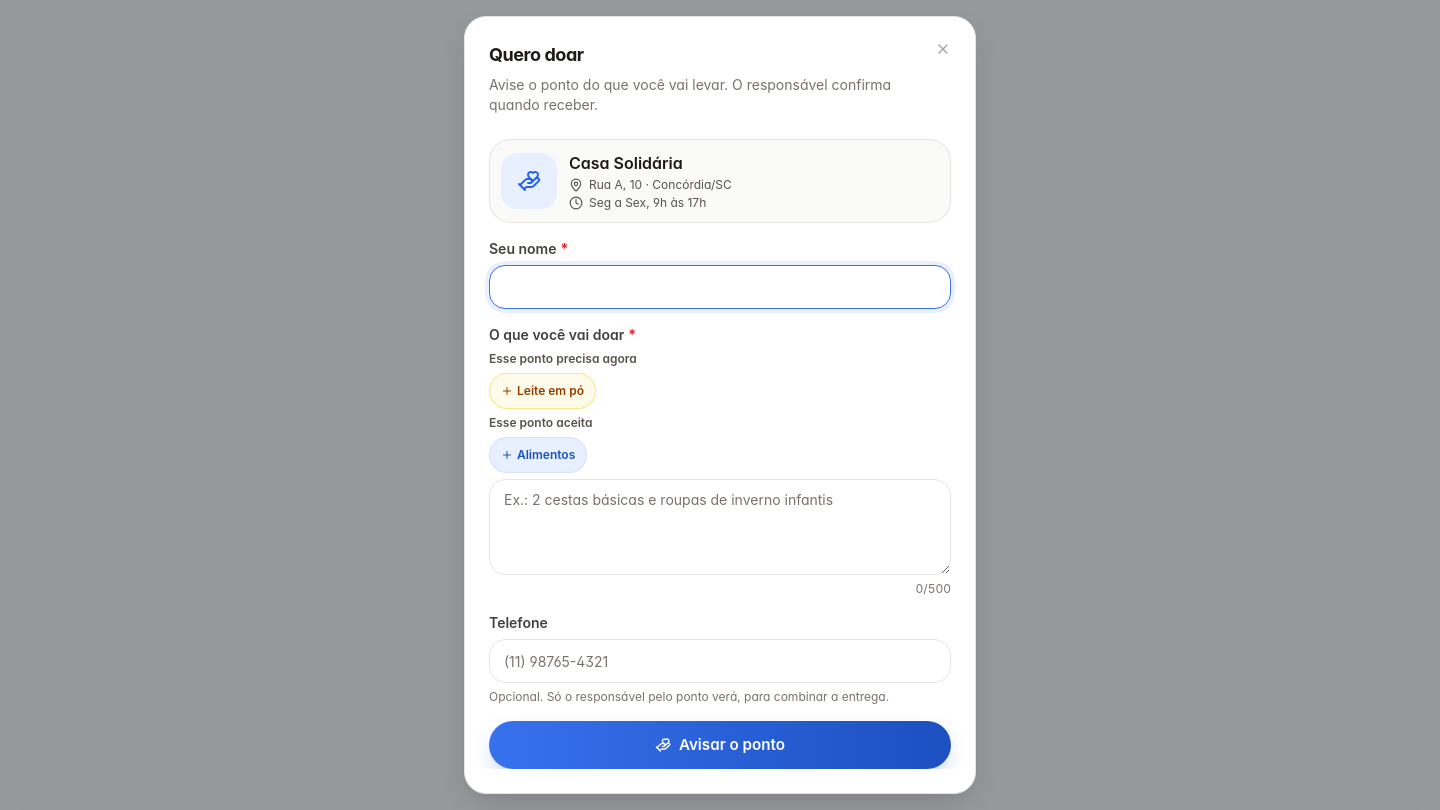
PledgeDonationModal › não envia sem descrição
In the field labelled "Seu nome": (720,287) 489,265 -> 951,309, type "Carlos"
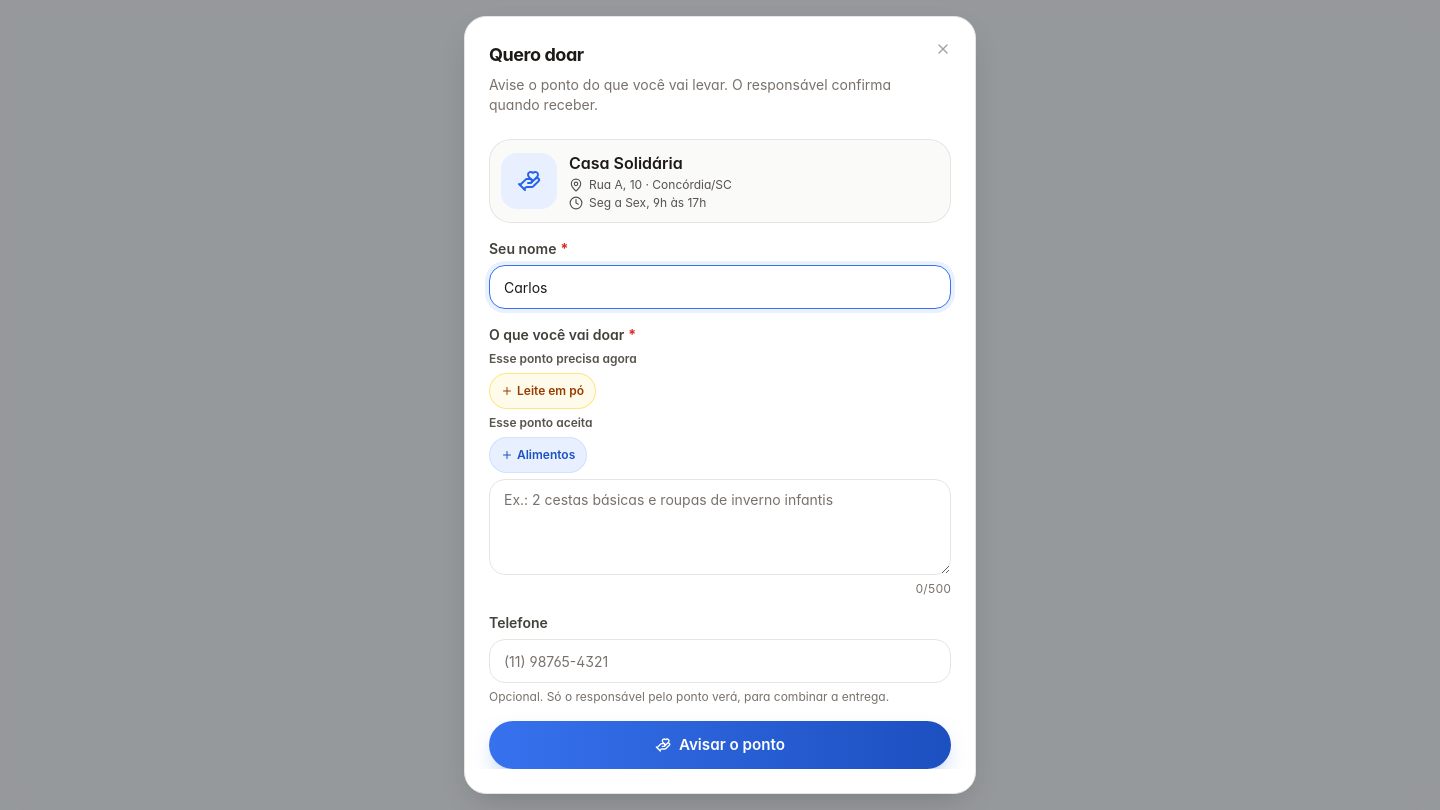
Click the button "Avisar o ponto": (720,745) 489,721 -> 951,769
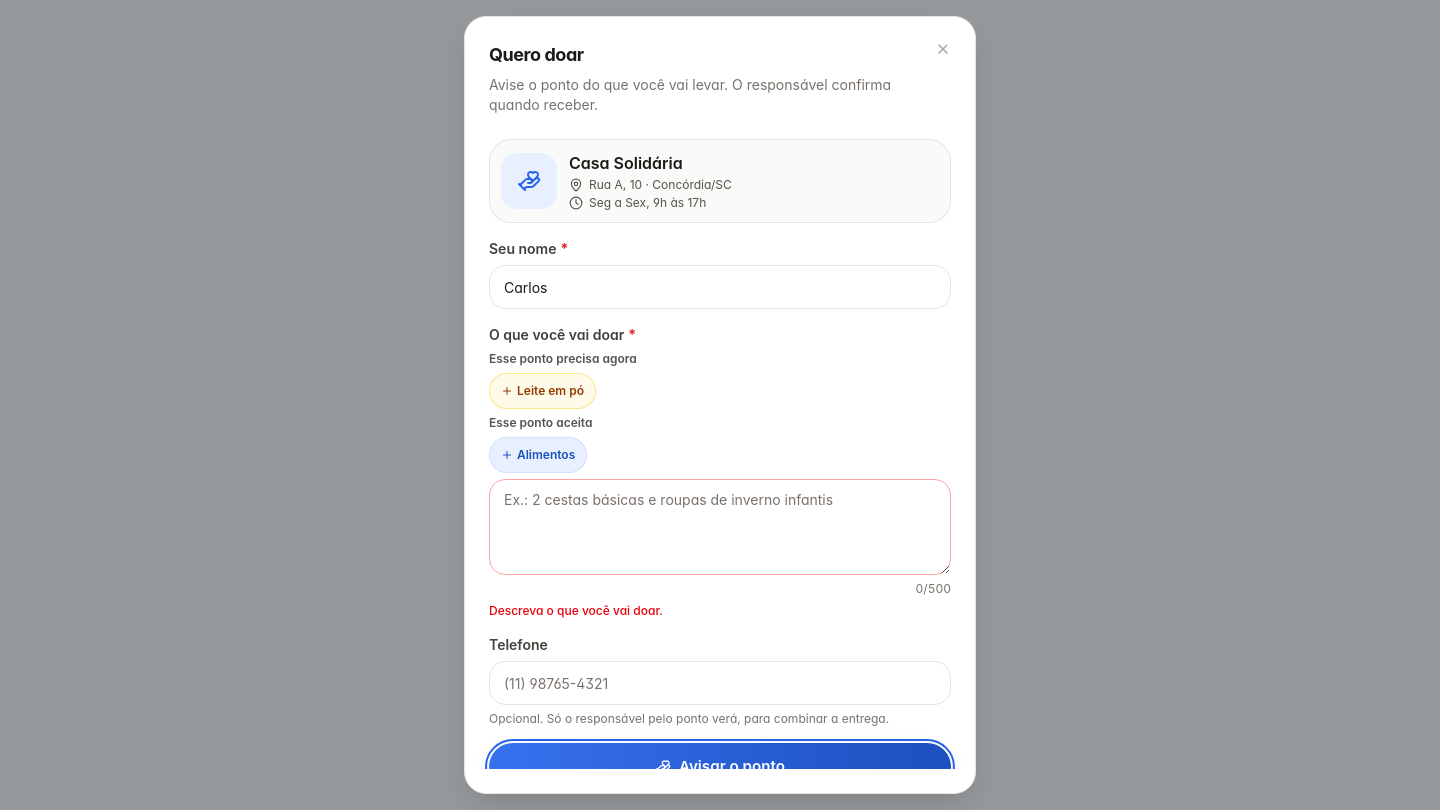
Result: the text "Descreva o que você vai doar." is shown at 489,603 -> 663,618
